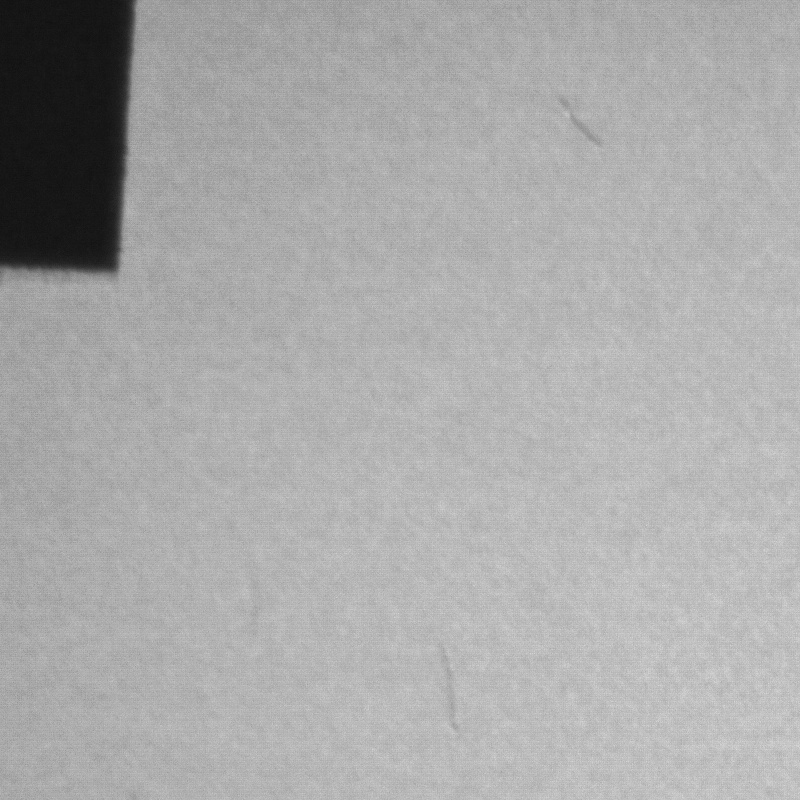defect: (557, 94, 602, 149), (441, 639, 463, 738)
